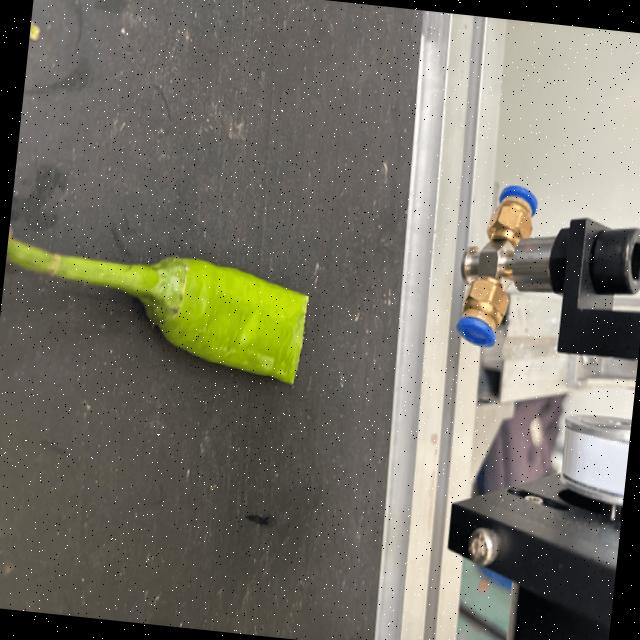chili: (146, 252, 309, 388)
